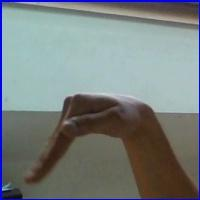A: (28, 87, 156, 187)
